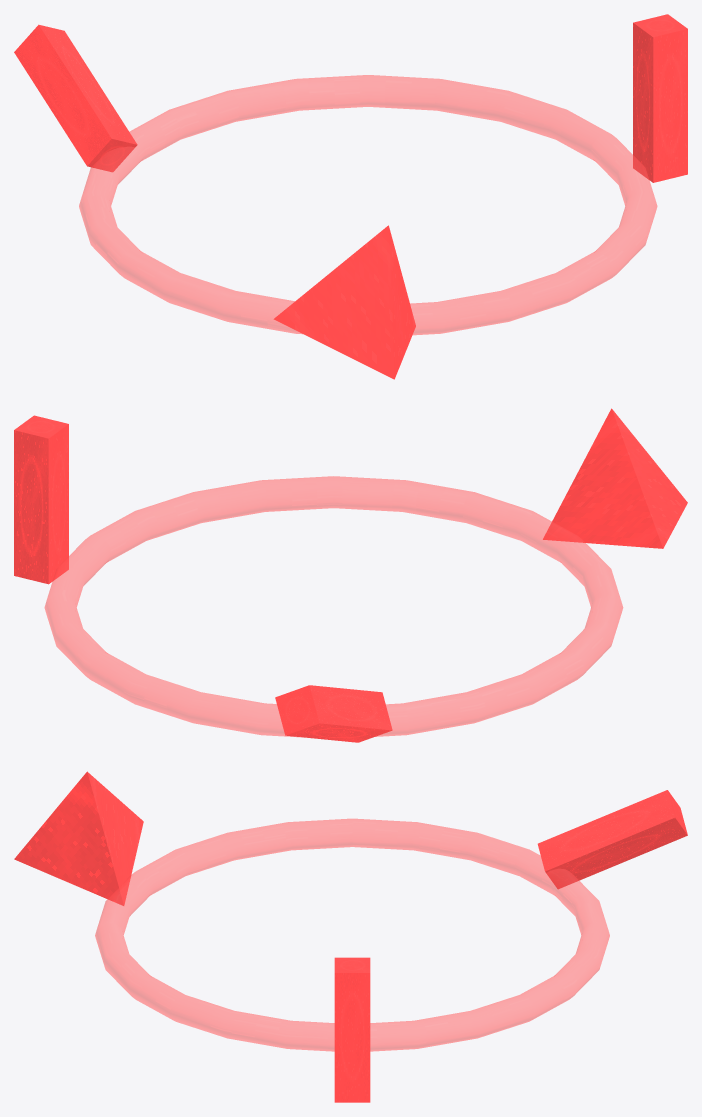
The model's file is miranda-brig-note.collider.glb.
3 renders of one model, top to bottom at view 1: azimuth 30°, elevation 25°; view 2: azimuth 150°, elevation 25°; view 3: azimuth 270°, elevation 25°, orthographic. The views are drawn at different scales.
Visible parts, largest first — view 1: story-marker-red-transparent|#ff6666|#ff6666|0.38|1|0.04|0.7, story-marker-red-body; view 2: story-marker-red-transparent|#ff6666|#ff6666|0.38|1|0.04|0.7, story-marker-red-body; view 3: story-marker-red-transparent|#ff6666|#ff6666|0.38|1|0.04|0.7, story-marker-red-body.
Part boxes in pixels (x1,y1,x2,y2): story-marker-red-transparent|#ff6666|#ff6666|0.38|1|0.04|0.7: (79, 75, 657, 335); story-marker-red-body: (14, 14, 687, 379); story-marker-red-transparent|#ff6666|#ff6666|0.38|1|0.04|0.7: (44, 476, 623, 737); story-marker-red-body: (14, 408, 687, 742); story-marker-red-transparent|#ff6666|#ff6666|0.38|1|0.04|0.7: (95, 818, 609, 1051); story-marker-red-body: (14, 771, 687, 1102).
Size of the model in its own units: 0.805 by 0.2171 by 0.942.
Materials: 2 (2 with a texture image).
